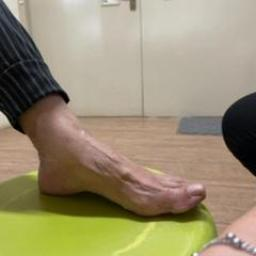Medial View -Left Foot-: (11, 98, 222, 229)
